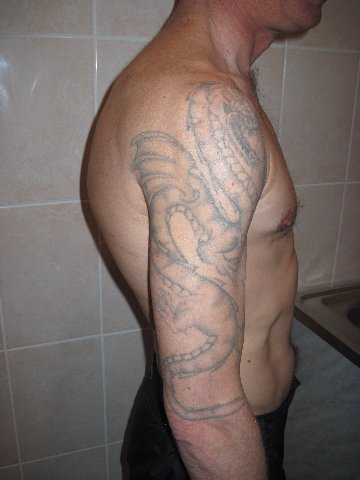tatu6_drakon: (104, 48, 296, 434)
